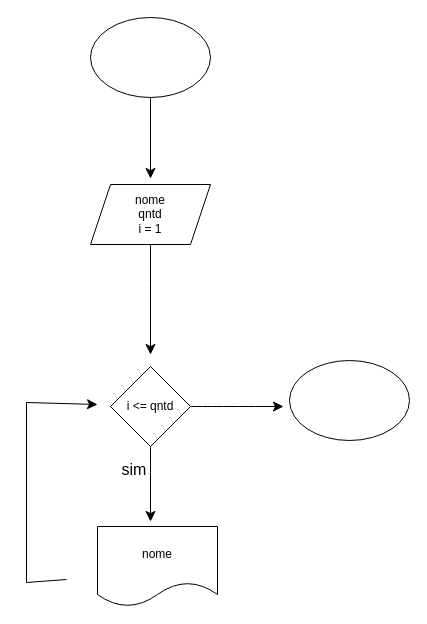
Some shapes in this 427 by 624 pixel diagram are drawn without their labels. Here are the shapes that lost their labels. From the top down, the centre of each, then its label:
the point at 150,57: início
the point at 349,400: fim
